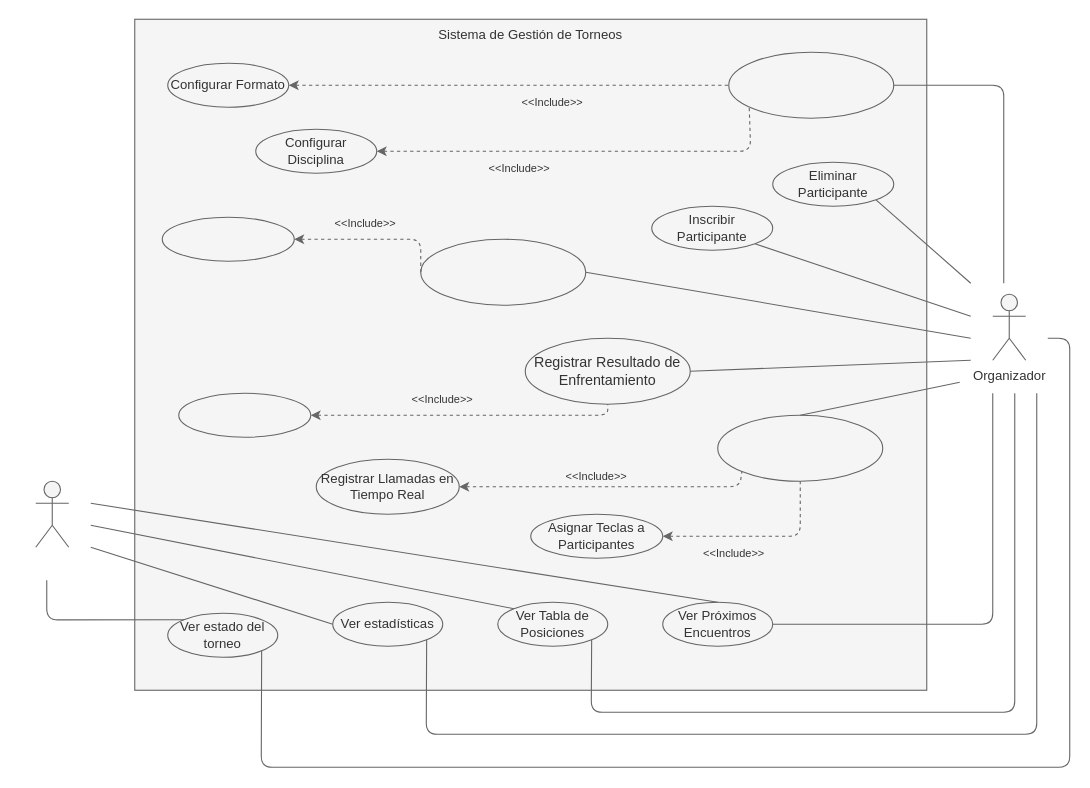
This 1090x788 diagram has some shape labels left out. The shapes that lost their labels are listed below. From the top down, each one's centre as x and y in pixels, then its label:
At pixel 811 84: "Crear Torneo".
At pixel 227 238: "Validar Mínimo de Participantes".
At pixel 503 271: "Generar Bracket Inicial".
At pixel 244 414: "Actualizar Bracket".
At pixel 800 447: "Iniciar Modo Carrera".
At pixel 52 513: "Expectador".
